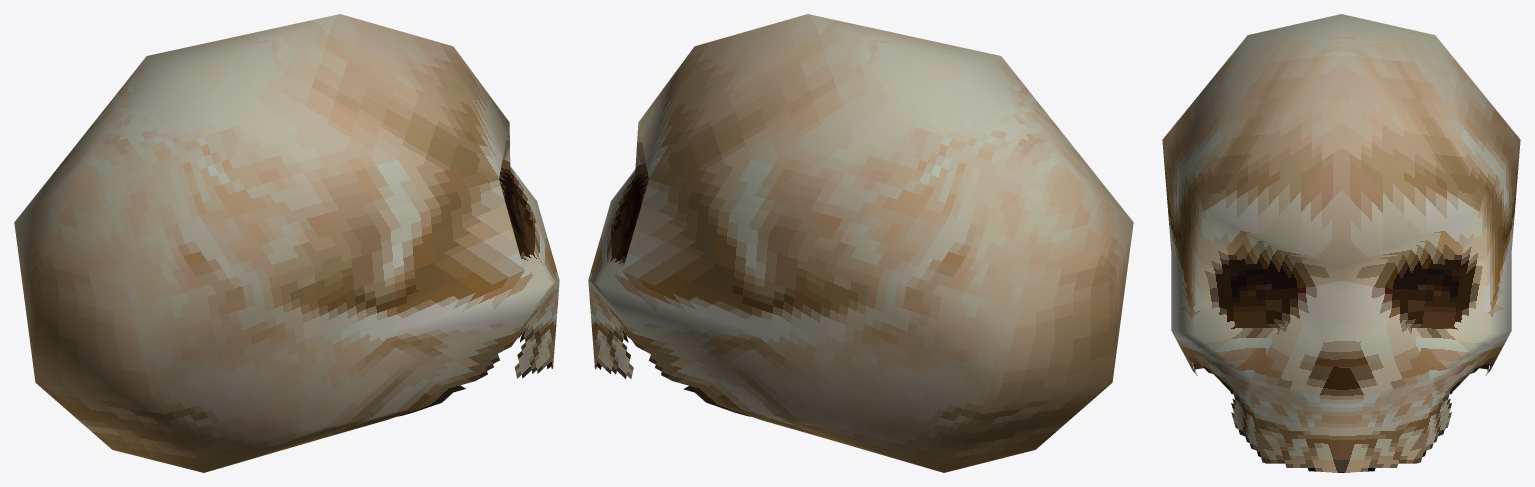
The model's file is battlegladeskullhuman2.obj.
The picture shows the model from 3 angles, left to right: view 1: azimuth 30°, elevation 25°; view 2: azimuth 150°, elevation 25°; view 3: azimuth 270°, elevation 25°; orthographic projection. The views are drawn at different scales.
Size of the model in its own units: 0.2511 by 0.1755 by 0.1652.
Materials: 1 (1 with a texture image).
